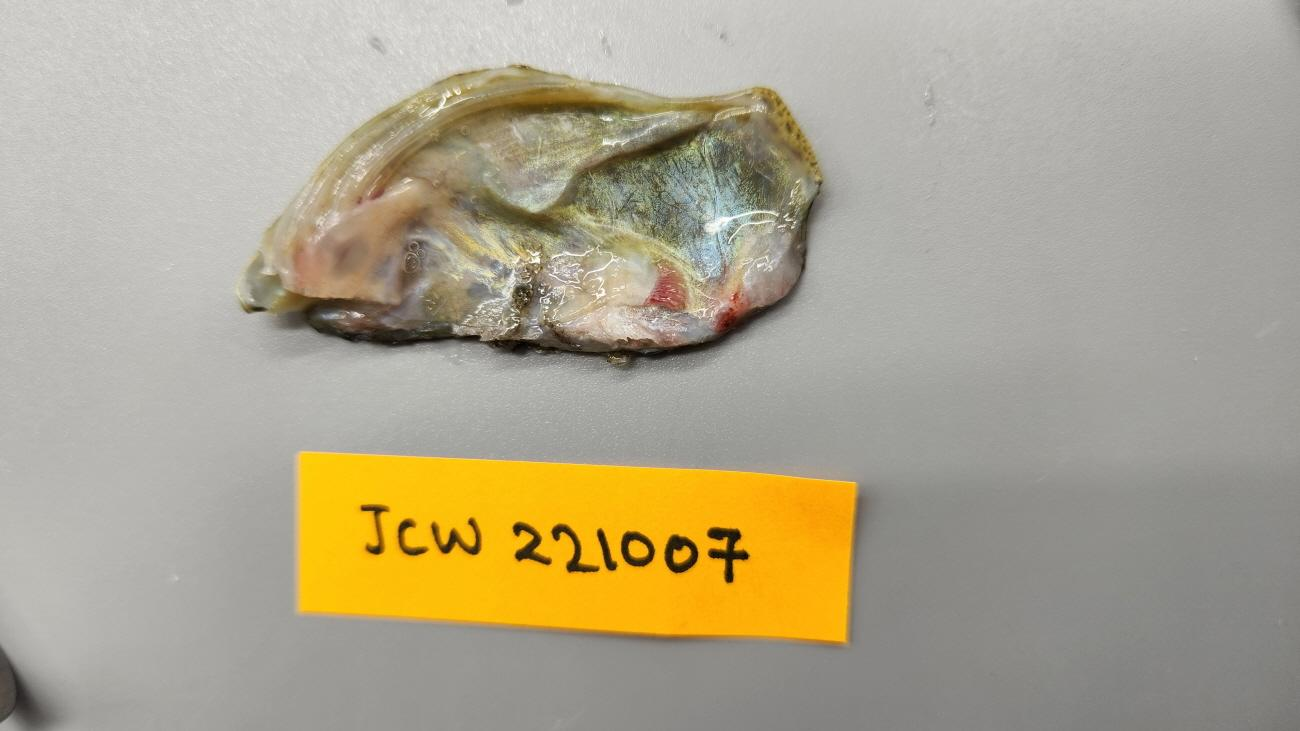POGCN: (233, 66, 824, 367)
